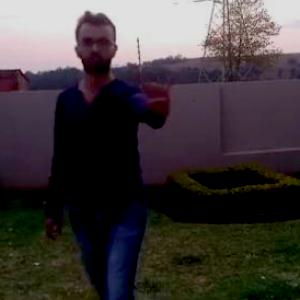takeoff-hand: (138, 71, 183, 117)
